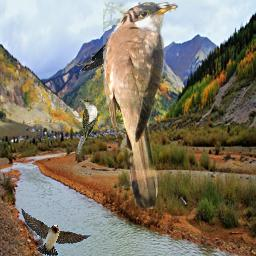Cuckoo: (103, 2, 178, 209), (76, 99, 98, 154)
Swallow: (20, 207, 91, 256), (75, 36, 119, 71)
